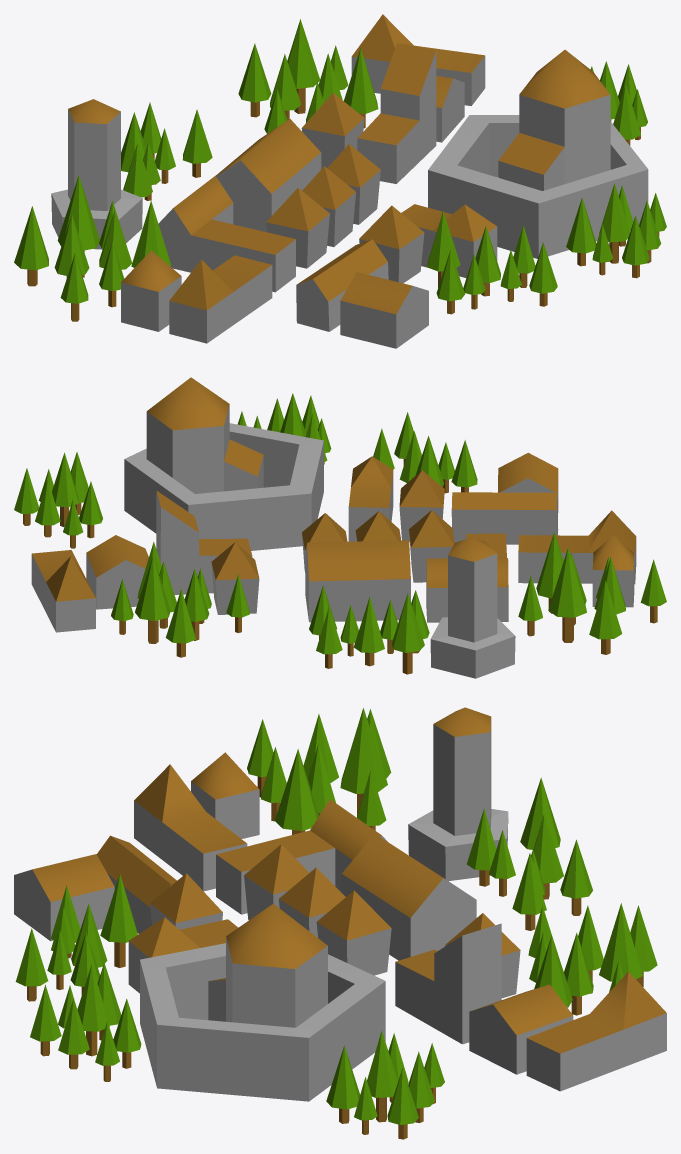
File: kenjitown.fbx
3 renders of one model, top to bottom at view 1: azimuth 30°, elevation 25°; view 2: azimuth 150°, elevation 25°; view 3: azimuth 270°, elevation 25°, orthographic. The views are drawn at different scales.
Parts seen in each view (by area): view 1: polySurface13; view 2: polySurface13; view 3: polySurface13.
Part boxes in pixels (x1,y1,x2,y2): polySurface13: (14, 14, 666, 348); polySurface13: (14, 377, 666, 678); polySurface13: (14, 707, 666, 1139).
Size of the model in its own units: 35.55 by 7.98 by 27.62.
